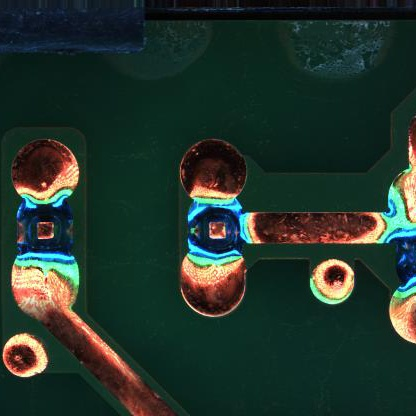spot: (13, 197, 77, 260), (184, 197, 247, 261)
